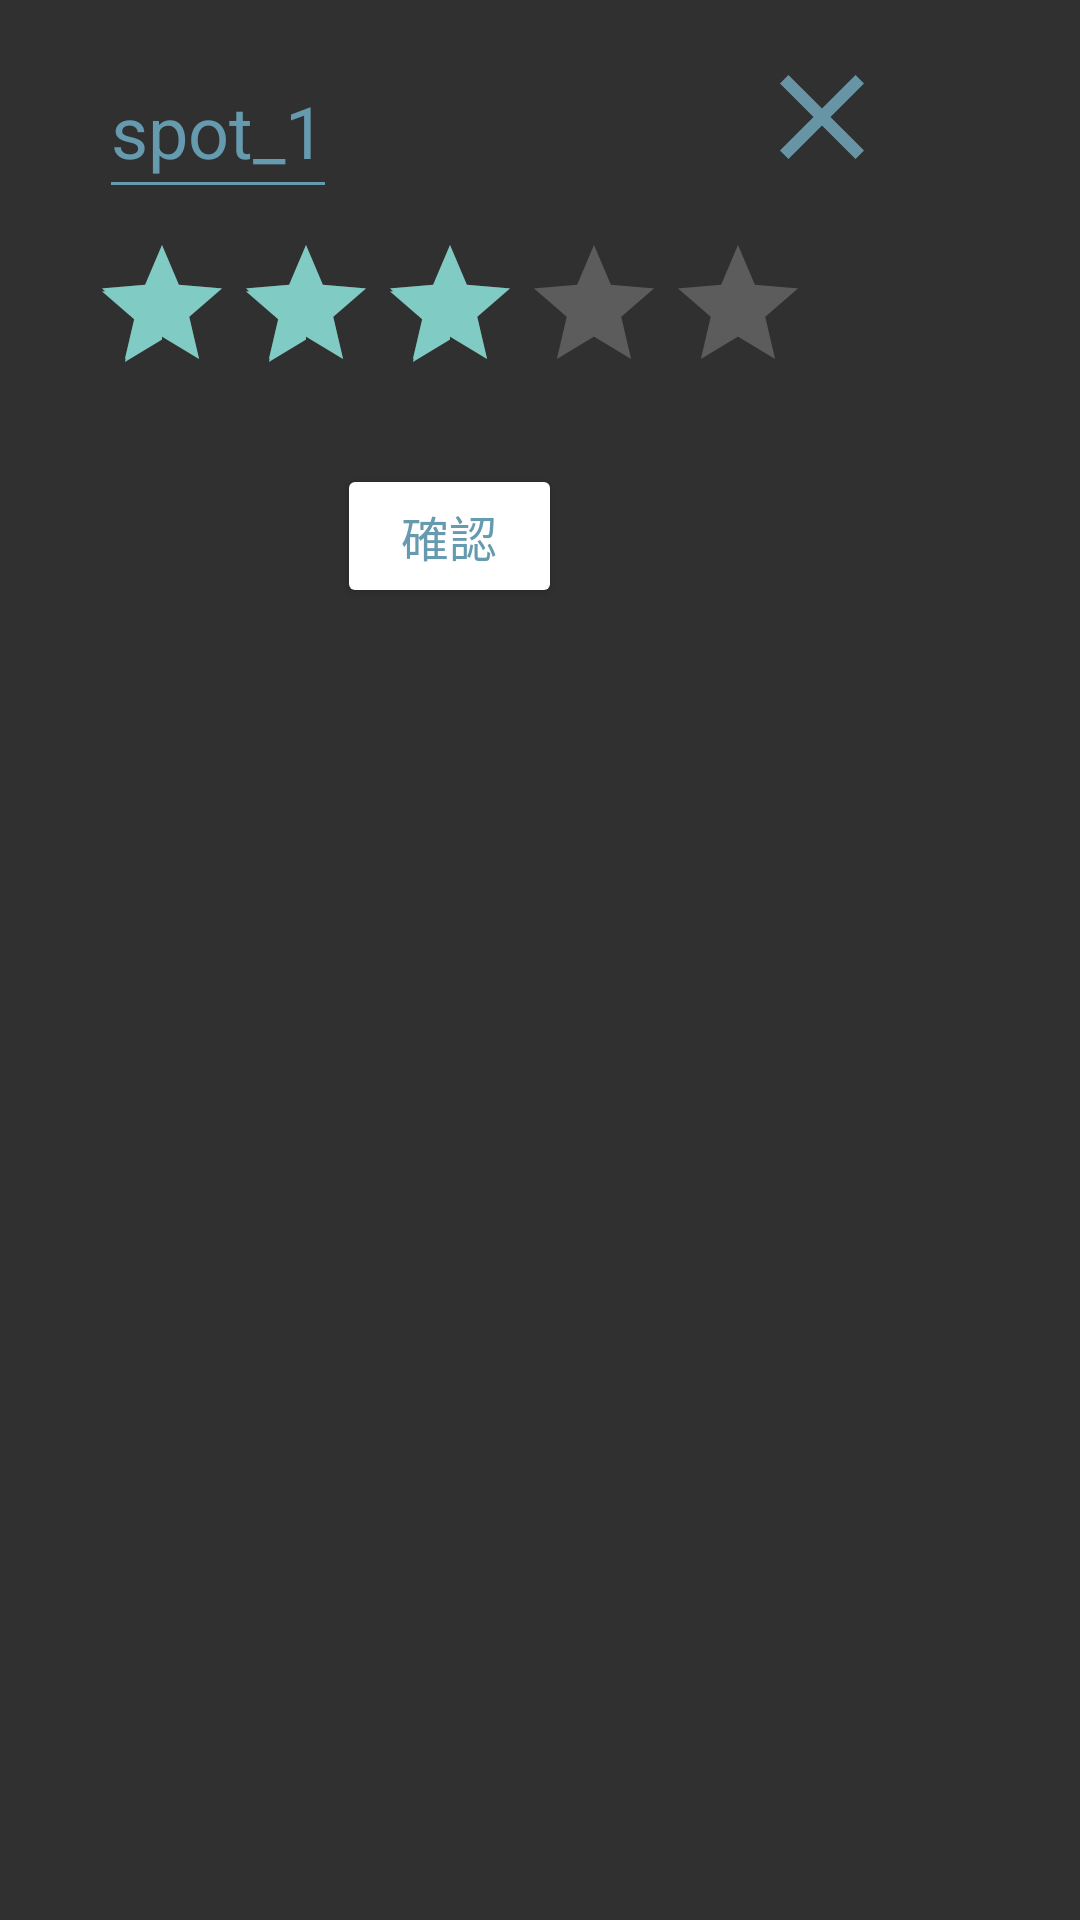

Named icons in this screenshot (1080px x 1920px) and their centers, (x=x, y=y):
clear: (x=822, y=117)
